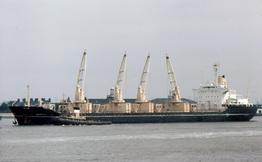Cargoship: (5, 43, 259, 121)
